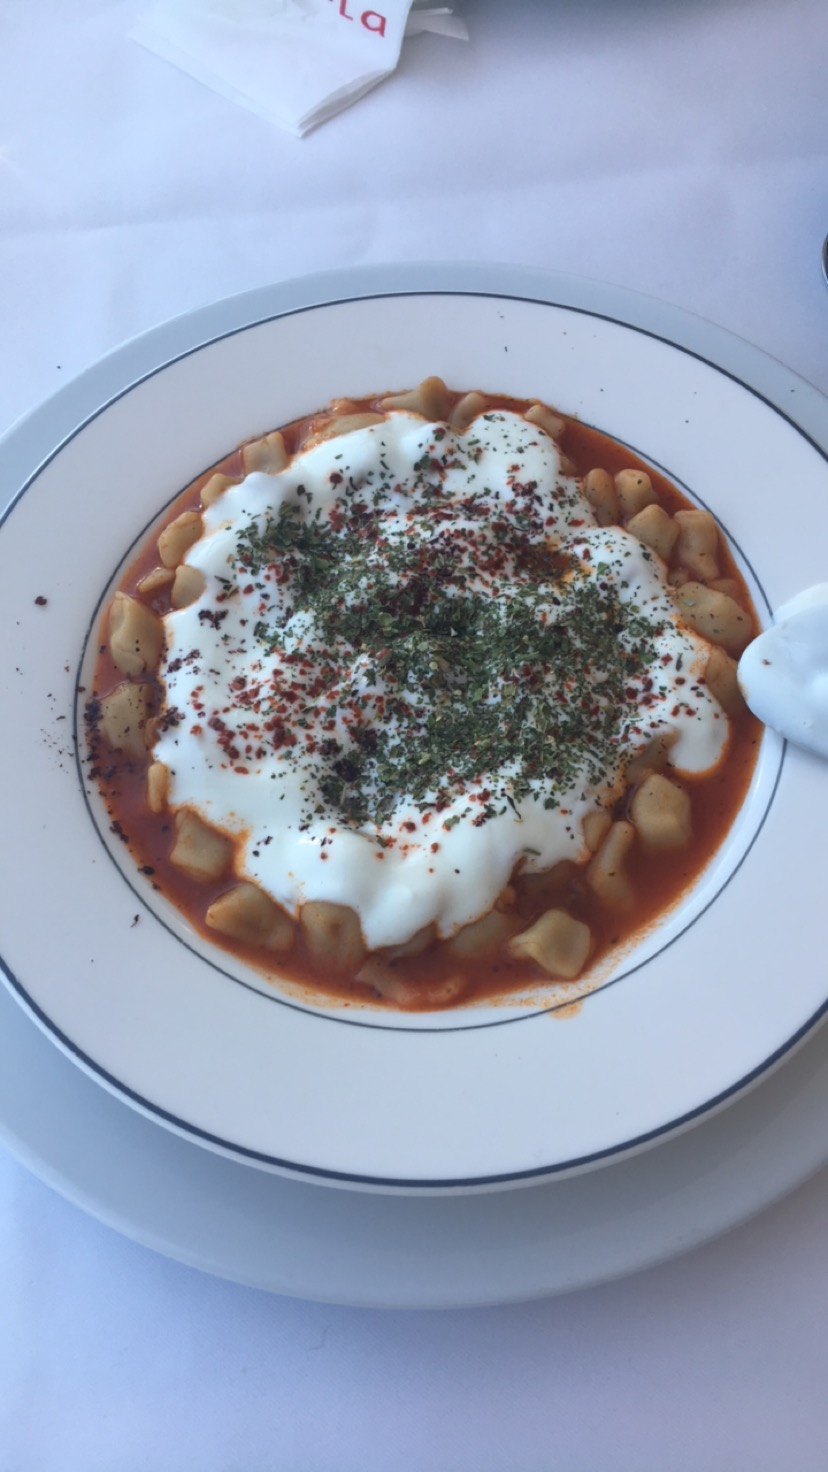copdegil: (17, 222, 828, 1186)
